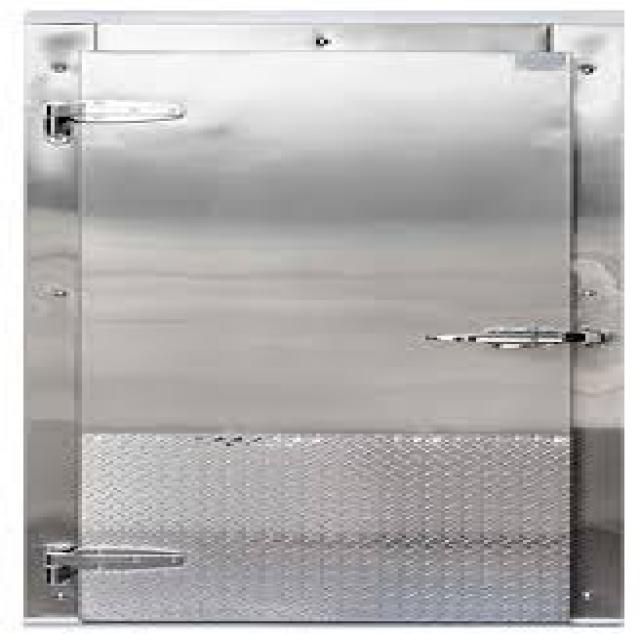door: (22, 12, 622, 624)
